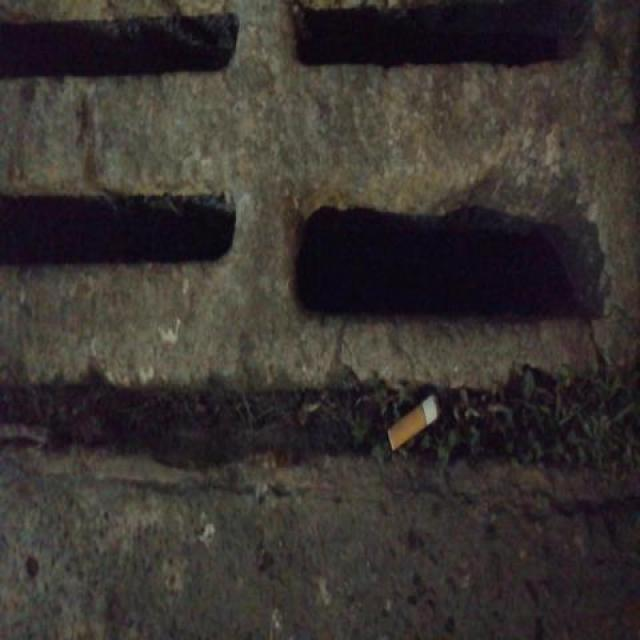non-organic waste: (385, 388, 443, 453)
